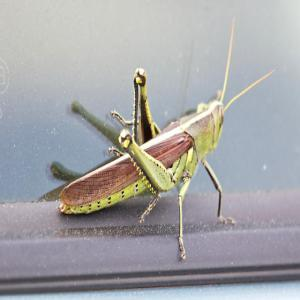locust: (60, 57, 252, 230)
